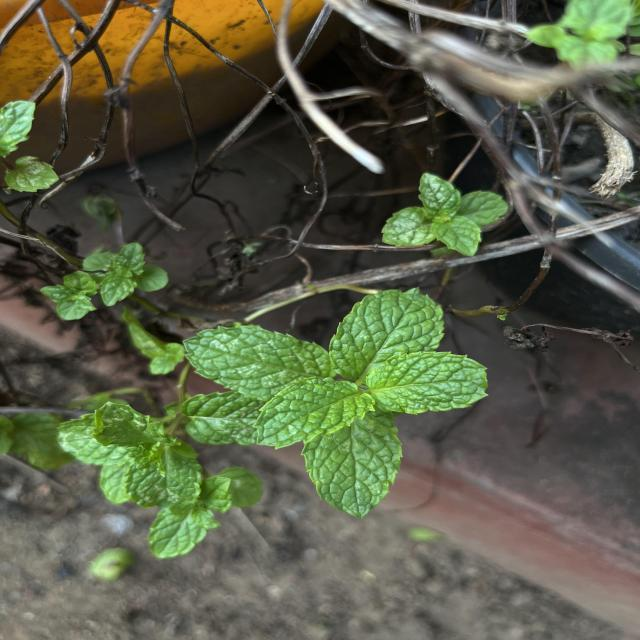Mentha spicata: (181, 322, 329, 402), (328, 285, 447, 382), (300, 414, 404, 520), (250, 376, 376, 452), (365, 349, 490, 416)
